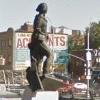Statue: (21, 0, 62, 82)
